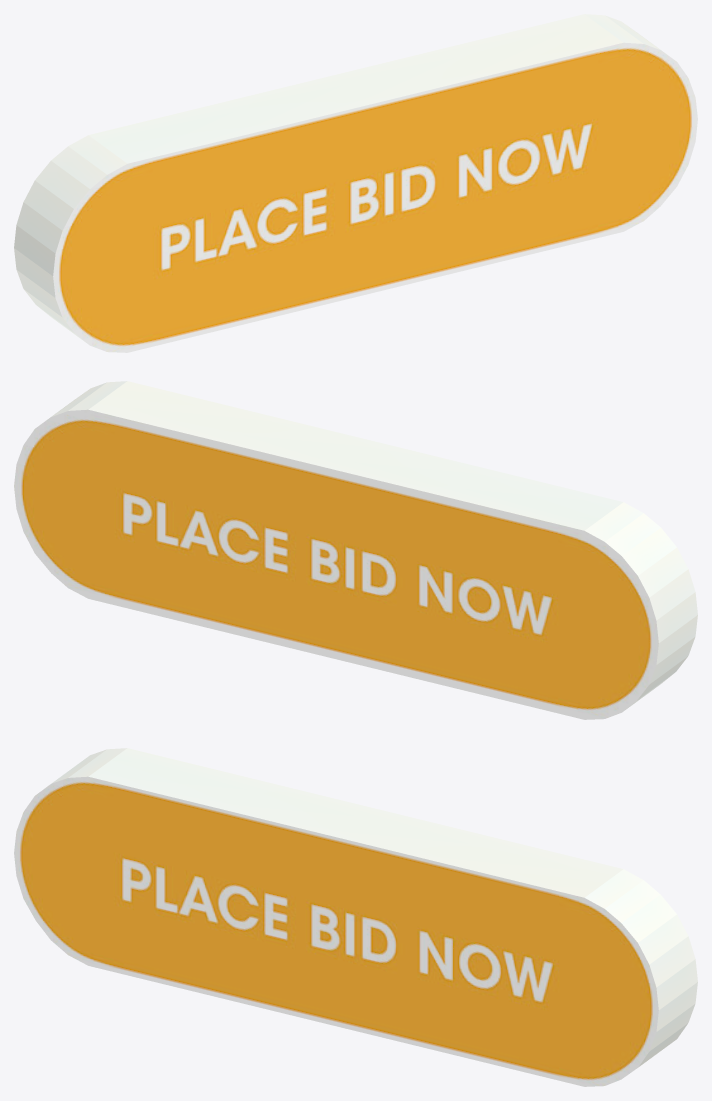
File: SU00113_Bid_Button_v01.glb
The picture shows the model from 3 angles, top to bottom: view 1: azimuth 30°, elevation 25°; view 2: azimuth 150°, elevation 25°; view 3: azimuth 330°, elevation 25°; orthographic projection.
Parts seen in each view (by area): view 1: BidButton; view 2: BidButton; view 3: BidButton.
Boxes of the visible parts, <box> form: BidButton: <box>14,14,697,352</box>; BidButton: <box>14,381,697,719</box>; BidButton: <box>14,748,697,1086</box>.
Size of the model in its own units: 4.96 by 1.39 by 0.5215.
Materials: 1 (1 with a texture image).
